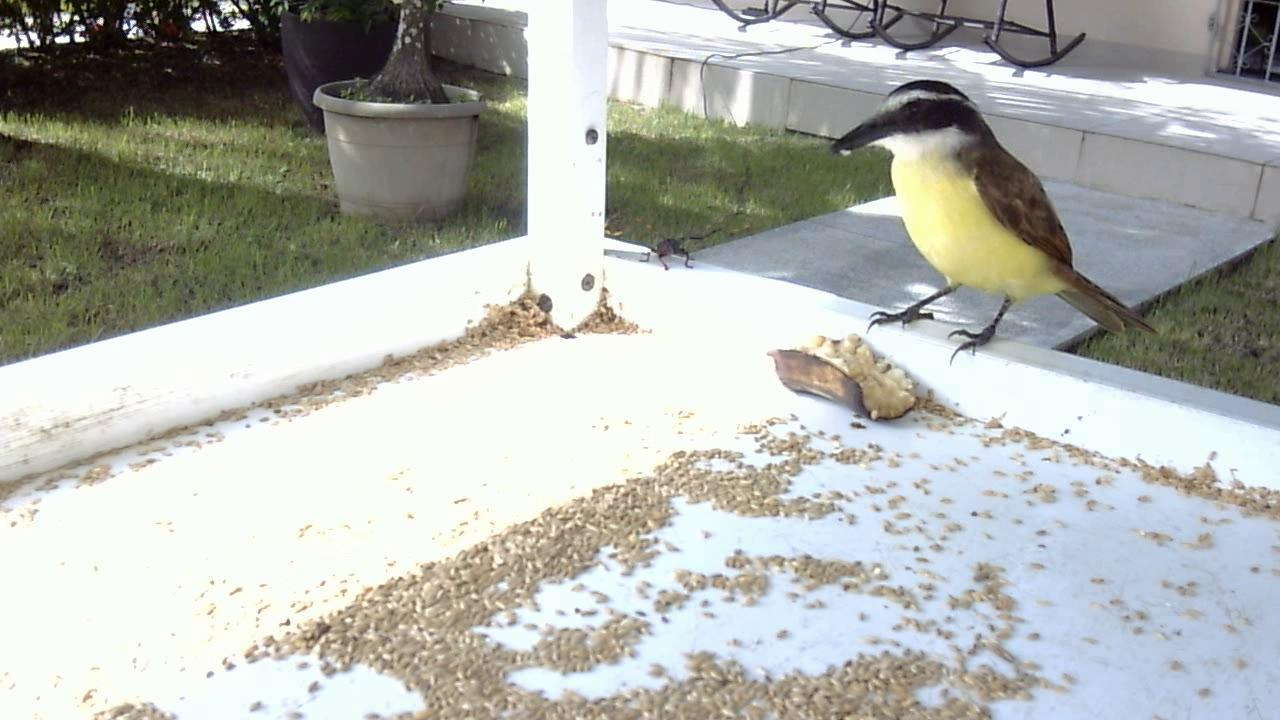bem_te_vi: (808, 78, 1161, 379)
